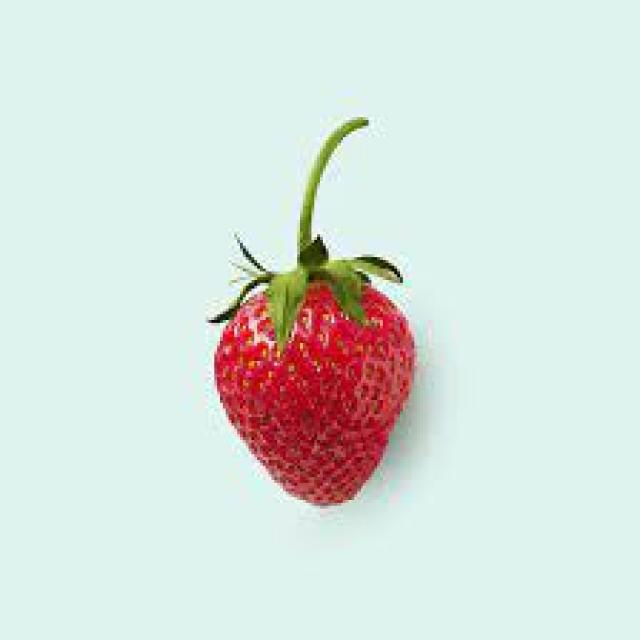strawberry: (184, 141, 411, 531)
